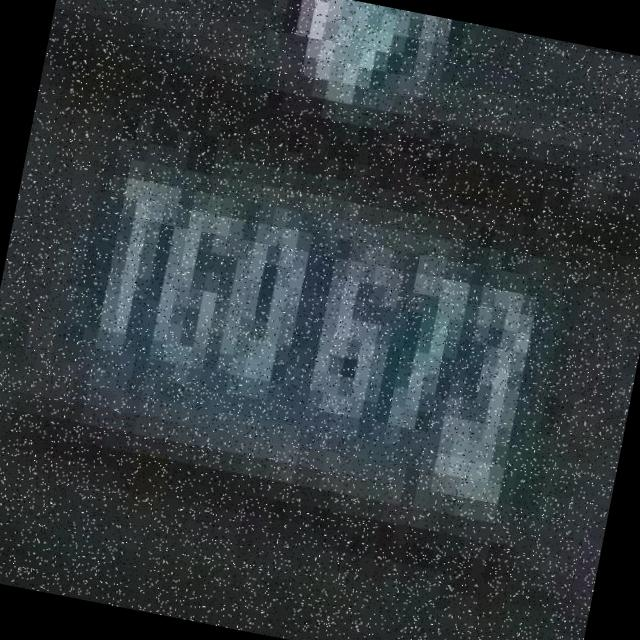LicensePlate: (23, 84, 627, 586)
